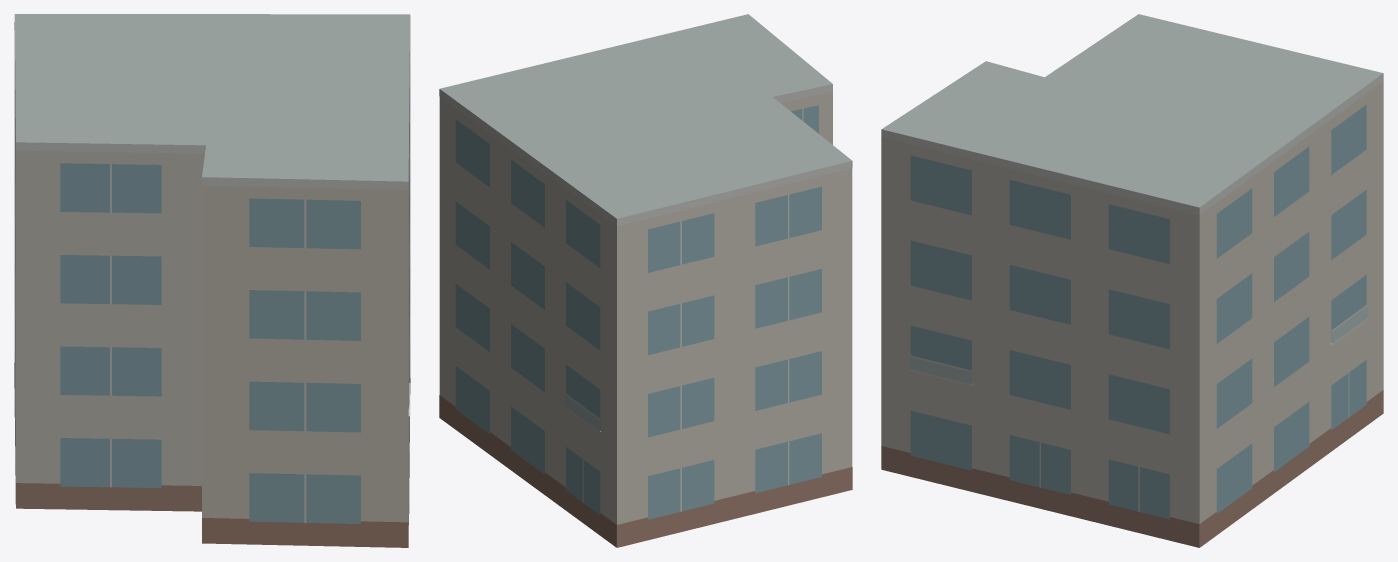
Rendered from survey-upis-33039307.glb.
The picture shows the model from 3 angles, left to right: view 1: azimuth 30°, elevation 25°; view 2: azimuth 150°, elevation 25°; view 3: azimuth 270°, elevation 25°; orthographic projection. The views are drawn at different scales.
Parts seen in each view (by area): view 1: survey-upis-33039307.tmp; view 2: survey-upis-33039307.tmp; view 3: survey-upis-33039307.tmp.
Boxes of the visible parts, x1=… form: survey-upis-33039307.tmp: x1=14, y1=14, x2=410, y2=547; survey-upis-33039307.tmp: x1=439, y1=14, x2=852, y2=547; survey-upis-33039307.tmp: x1=881, y1=14, x2=1383, y2=547.
Size of the model in its own units: 13 by 10.65 by 14.25.
